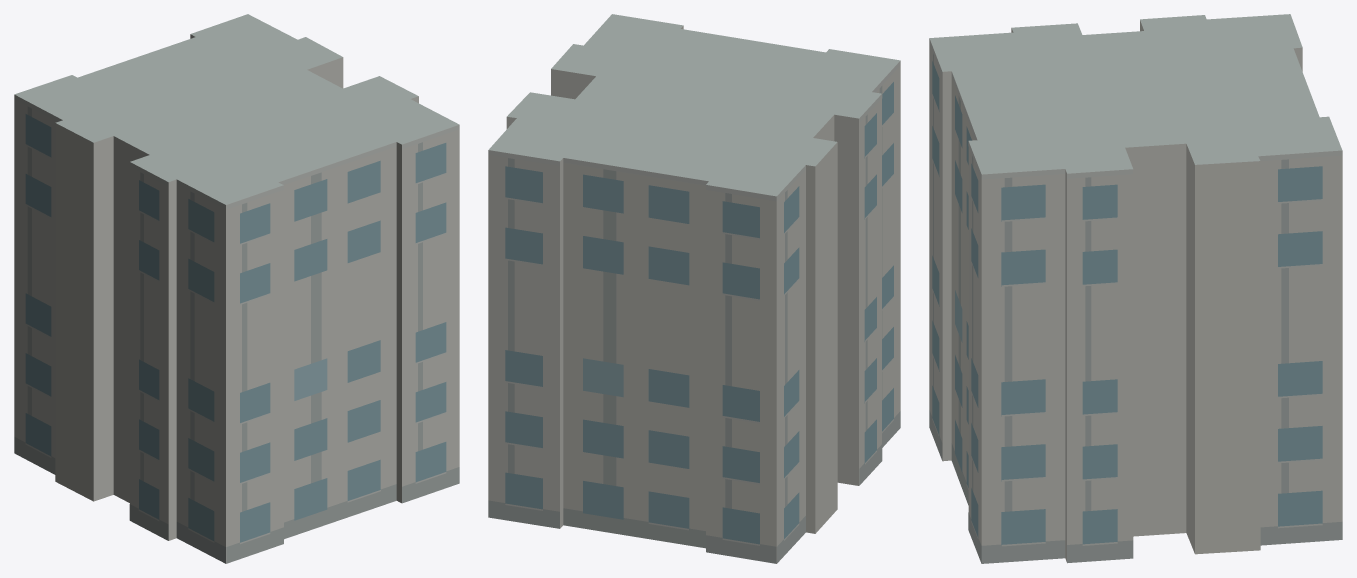
Rendered from survey-upis-32811238.glb.
3 views of the same model, side by side, from view 1: azimuth 30°, elevation 25°; view 2: azimuth 150°, elevation 25°; view 3: azimuth 270°, elevation 25° (orthographic). The views are drawn at different scales.
Visible parts, largest first — view 1: survey-upis-32811238.tmp; view 2: survey-upis-32811238.tmp; view 3: survey-upis-32811238.tmp.
Part boxes in pixels (x1,y1,x2,y2): survey-upis-32811238.tmp: [14, 14, 459, 563]; survey-upis-32811238.tmp: [488, 14, 900, 563]; survey-upis-32811238.tmp: [929, 14, 1342, 563].
Size of the model in its own units: 16.19 by 18.3 by 17.61.
